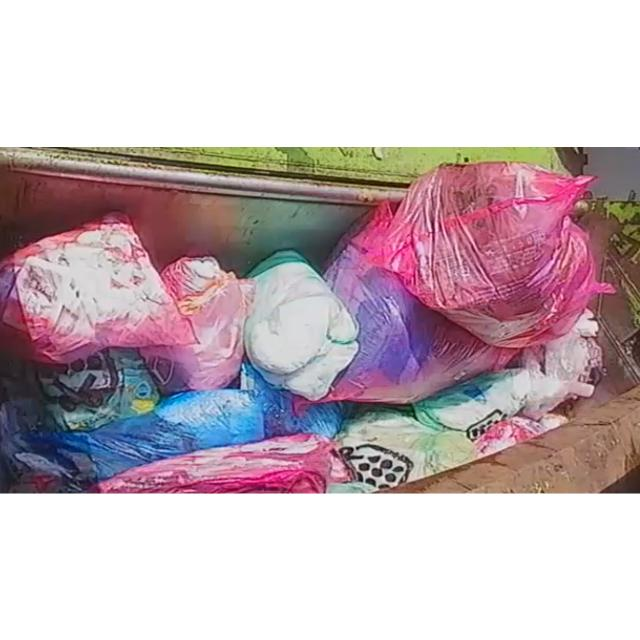general_trashbag: (245, 248, 358, 398), (339, 408, 478, 487), (39, 348, 160, 430), (412, 367, 531, 438)
other_trashbag: (351, 161, 614, 347), (0, 212, 195, 363)
